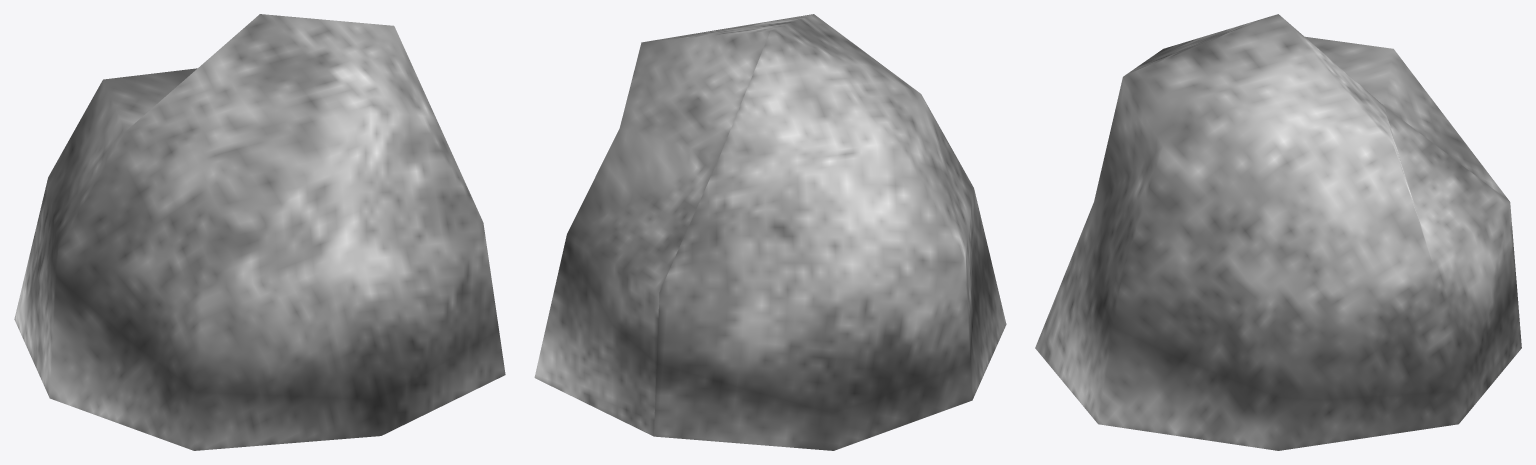
Rendered from stone.fbx.
The picture shows the model from 3 angles, left to right: view 1: azimuth 30°, elevation 25°; view 2: azimuth 150°, elevation 25°; view 3: azimuth 270°, elevation 25°; orthographic projection. The views are drawn at different scales.
Parts seen in each view (by area): view 1: pCube1; view 2: pCube1; view 3: pCube1.
Part boxes in pixels (x1,y1,x2,y2): pCube1: [14, 14, 505, 450]; pCube1: [534, 14, 1006, 450]; pCube1: [1035, 14, 1521, 450].
Bounding box in the file's own units: 32.25 × 24.42 × 32.25.
